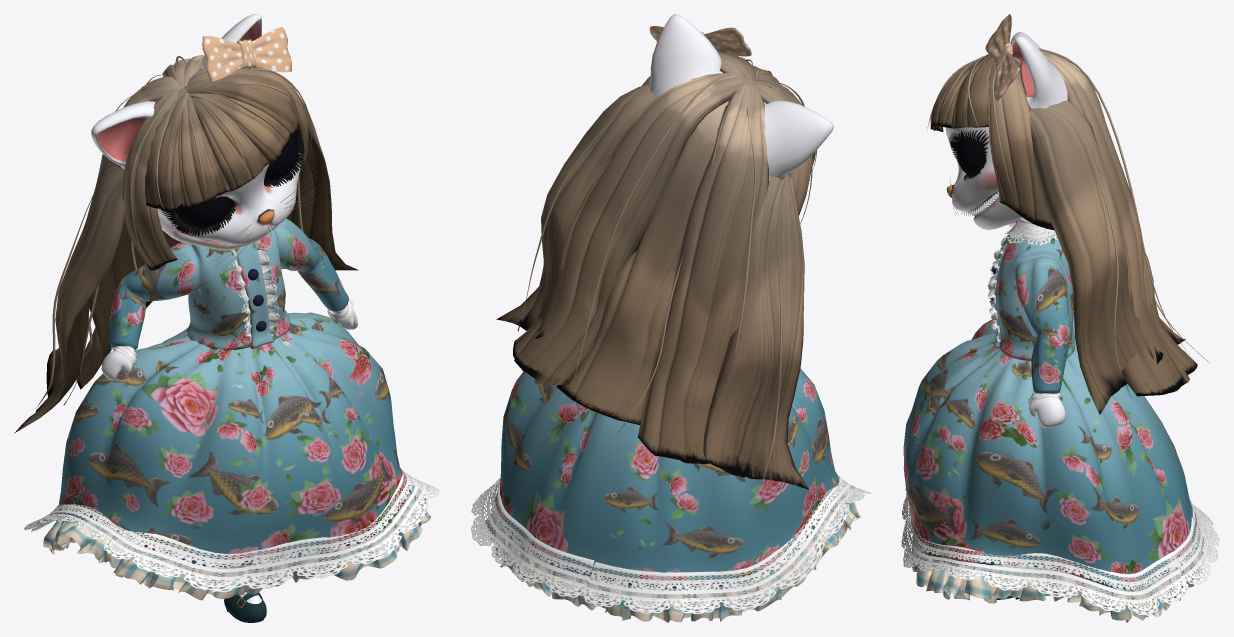
The model's file is catdoll.fbx.
3 renders of one model, left to right at view 1: azimuth 30°, elevation 25°; view 2: azimuth 150°, elevation 25°; view 3: azimuth 270°, elevation 25°, orthographic. The views are drawn at different scales.
Visible parts, largest first — view 1: Skirt, Tops, Skirt Frill Race, Hair Back.002, Body, Skirt Frill, Hair Side, Hair Back.001, Hair Front.001, Hair Front.r.002, Hair Front.r.001, Ribbon (+8 smaller); view 2: Hair Back.001, Skirt, Hair Back.002, Skirt Frill Race, Hair Back, Body, Skirt Frill, Asobige, Hair Side, Ribbon; view 3: Skirt, Hair Back.002, Skirt Frill Race, Tops, Hair Back.001, Body, Hair Side, Skirt Frill, Hair Front.l.002, Asobige, Ribbon, Hair Back (+5 smaller).
Boxes of the visible parts, bbox=[...] form: Skirt: bbox=[53, 312, 409, 567]; Tops: bbox=[109, 218, 348, 350]; Skirt Frill Race: bbox=[24, 469, 439, 592]; Hair Back.002: bbox=[14, 86, 358, 433]; Body: bbox=[91, 14, 358, 380]; Skirt Frill: bbox=[43, 485, 430, 600]; Hair Side: bbox=[122, 66, 308, 270]; Hair Back.001: bbox=[76, 55, 204, 389]; Hair Front.001: bbox=[192, 97, 267, 192]; Hair Front.r.002: bbox=[145, 88, 188, 211]; Hair Front.r.001: bbox=[178, 95, 227, 207]; Ribbon: bbox=[202, 27, 291, 81]; Hair Back.001: bbox=[513, 73, 769, 464]; Skirt: bbox=[495, 368, 840, 588]; Hair Back.002: bbox=[496, 83, 808, 489]; Skirt Frill Race: bbox=[471, 475, 870, 613]; Hair Back: bbox=[556, 80, 752, 424]; Body: bbox=[650, 14, 833, 178]; Skirt Frill: bbox=[486, 489, 860, 622]; Asobige: bbox=[517, 56, 816, 483]; Hair Side: bbox=[642, 53, 811, 215]; Ribbon: bbox=[649, 26, 751, 56]; Skirt: bbox=[903, 312, 1196, 589]; Hair Back.002: bbox=[1029, 100, 1185, 414]; Skirt Frill Race: bbox=[901, 488, 1219, 615]; Tops: bbox=[993, 221, 1075, 393]; Hair Back.001: bbox=[1038, 48, 1189, 396]; Body: bbox=[945, 32, 1067, 427]; Hair Side: bbox=[988, 57, 1054, 229]; Skirt Frill: bbox=[911, 525, 1203, 622]; Hair Front.l.002: bbox=[951, 54, 994, 128]; Asobige: bbox=[927, 49, 1209, 396]; Ribbon: bbox=[985, 14, 1020, 100]; Hair Back: bbox=[1143, 250, 1197, 374].
Size of the model in its own units: 159 by 250 by 128.
